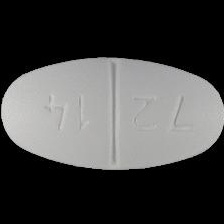76237-271: (0, 0, 224, 224)
